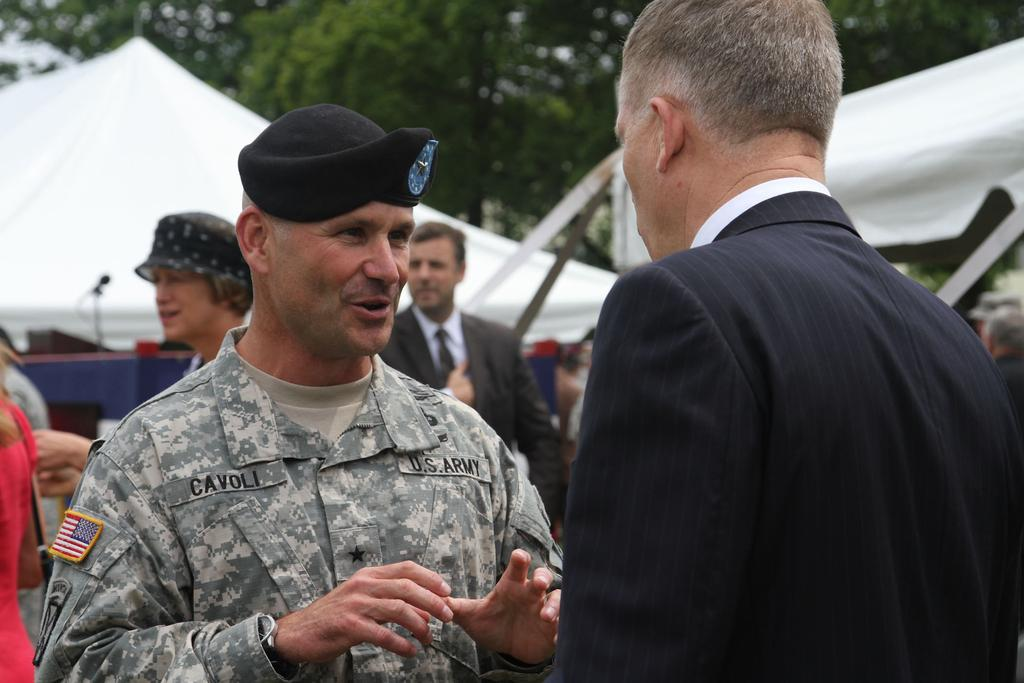Hat: (134, 212, 254, 288)
